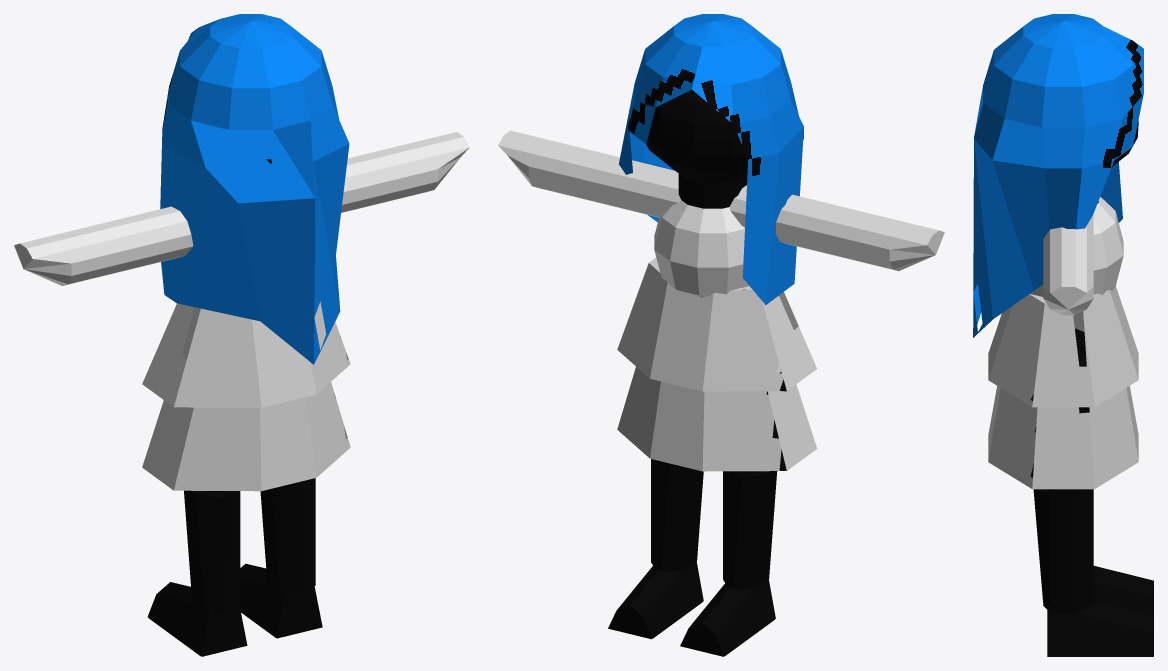
Rendered from Girl2.fbx.
3 views of the same model, side by side, from view 1: azimuth 30°, elevation 25°; view 2: azimuth 150°, elevation 25°; view 3: azimuth 270°, elevation 25° (orthographic). The views are drawn at different scales.
Parts seen in each view (by area): view 1: Hair, Dress, Dress2, arm_l, leg_l, arm_r, leg_r, foot_l, foot_r; view 2: Hair, Dress2, Dress, arm_r, arm_l, Chest, Face, leg_l, leg_r, foot_r, foot_l, Neck; view 3: Hair, Dress2, Dress, leg_r, foot_r, arm_r, Chest, foot_l, leg_r_1.
Boxes of the visible parts, left/top/right/bottom form: Hair: left=160, top=14, right=349, bottom=364; Dress: left=142, top=307, right=350, bottom=491; Dress2: left=142, top=301, right=350, bottom=407; arm_l: left=14, top=206, right=193, bottom=285; leg_l: left=184, top=490, right=240, bottom=612; arm_r: left=341, top=132, right=469, bottom=212; leg_r: left=260, top=478, right=315, bottom=594; foot_l: left=147, top=582, right=247, bottom=656; foot_r: left=239, top=563, right=322, bottom=638; Hair: left=619, top=14, right=803, bottom=304; Dress2: left=617, top=257, right=816, bottom=391; Dress: left=617, top=347, right=817, bottom=471; arm_r: left=498, top=130, right=680, bottom=217; arm_l: left=729, top=185, right=944, bottom=271; Chest: left=654, top=200, right=748, bottom=297; Face: left=646, top=90, right=747, bottom=182; leg_l: left=723, top=471, right=777, bottom=589; leg_r: left=651, top=459, right=703, bottom=571; foot_r: left=608, top=562, right=703, bottom=639; foot_l: left=680, top=579, right=775, bottom=656; Neck: left=678, top=173, right=747, bottom=208; Hair: left=973, top=14, right=1143, bottom=337; Dress2: left=988, top=286, right=1138, bottom=407; Dress: left=988, top=314, right=1138, bottom=489; leg_r: left=1033, top=489, right=1093, bottom=613; foot_r: left=1047, top=602, right=1153, bottom=656; arm_r: left=1043, top=214, right=1093, bottom=315; Chest: left=1030, top=197, right=1123, bottom=315; foot_l: left=1093, top=566, right=1153, bottom=616; leg_r_1: left=1045, top=366, right=1093, bottom=504.
Bounding box in the file's own units: 313 × 416 × 112.
5 materials, 5 textured.
